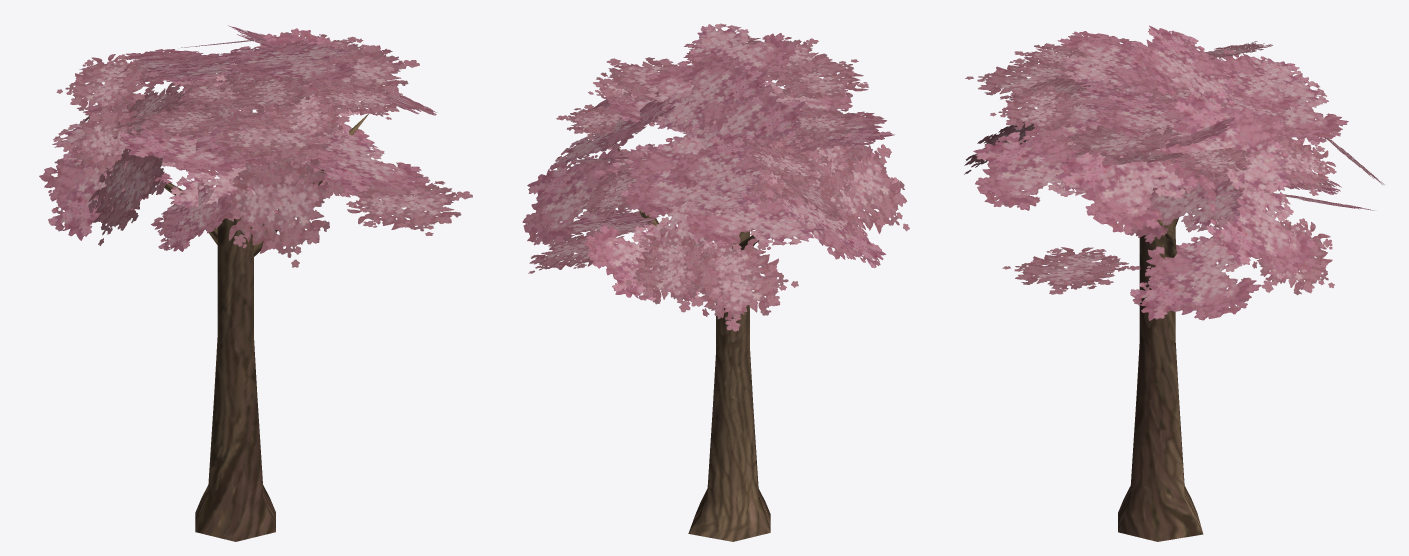
Rendered from Tree_D_1.fbx.
The picture shows the model from 3 angles, left to right: view 1: azimuth 30°, elevation 25°; view 2: azimuth 150°, elevation 25°; view 3: azimuth 270°, elevation 25°; orthographic projection. The views are drawn at different scales.
Visible parts, largest first — view 1: Tree_D_1, Tree_C_Trunk; view 2: Tree_D_1, Tree_C_Trunk; view 3: Tree_D_1, Tree_C_Trunk.
Boxes of the visible parts, <box> form: Tree_D_1: <box>39,25,472,267</box>; Tree_C_Trunk: <box>164,114,368,541</box>; Tree_D_1: <box>522,23,909,331</box>; Tree_C_Trunk: <box>617,148,770,541</box>; Tree_D_1: <box>964,25,1384,320</box>; Tree_C_Trunk: <box>1118,217,1203,541</box>.
Size of the model in its own units: 0.6463 by 0.8227 by 0.6795.
